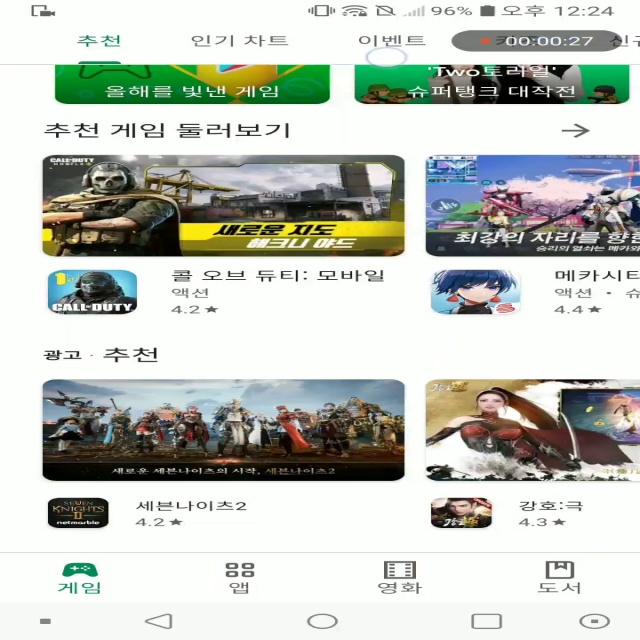Cursor: (364, 46, 408, 68)
